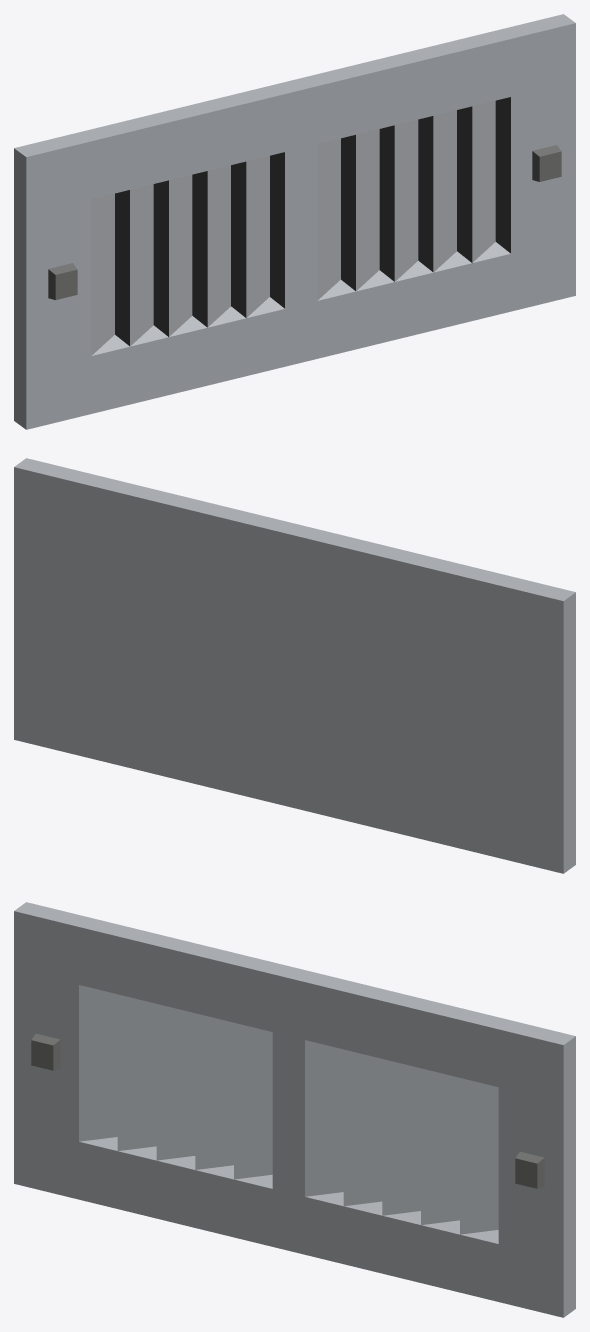
File: SM_Prop_Airvent_Flat_01.fbx
3 views of the same model, one above another, from view 1: azimuth 30°, elevation 25°; view 2: azimuth 150°, elevation 25°; view 3: azimuth 330°, elevation 25° (orthographic).
Visible parts, largest first — view 1: SM_Prop_Airvent_Flat_01; view 2: SM_Prop_Airvent_Flat_01; view 3: SM_Prop_Airvent_Flat_01.
Part boxes in pixels (box(x1,y1,x2,y2)): SM_Prop_Airvent_Flat_01: box(14, 14, 575, 429); SM_Prop_Airvent_Flat_01: box(14, 458, 575, 873); SM_Prop_Airvent_Flat_01: box(14, 902, 575, 1317).
Bounding box in the file's own units: 98.33 × 46.62 × 5.67.
